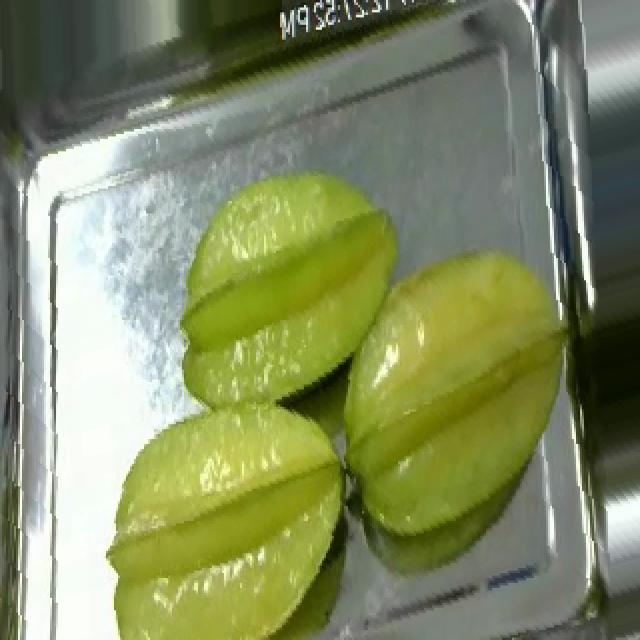fruit: (312, 226, 594, 573), (160, 144, 432, 422), (94, 382, 374, 640)
